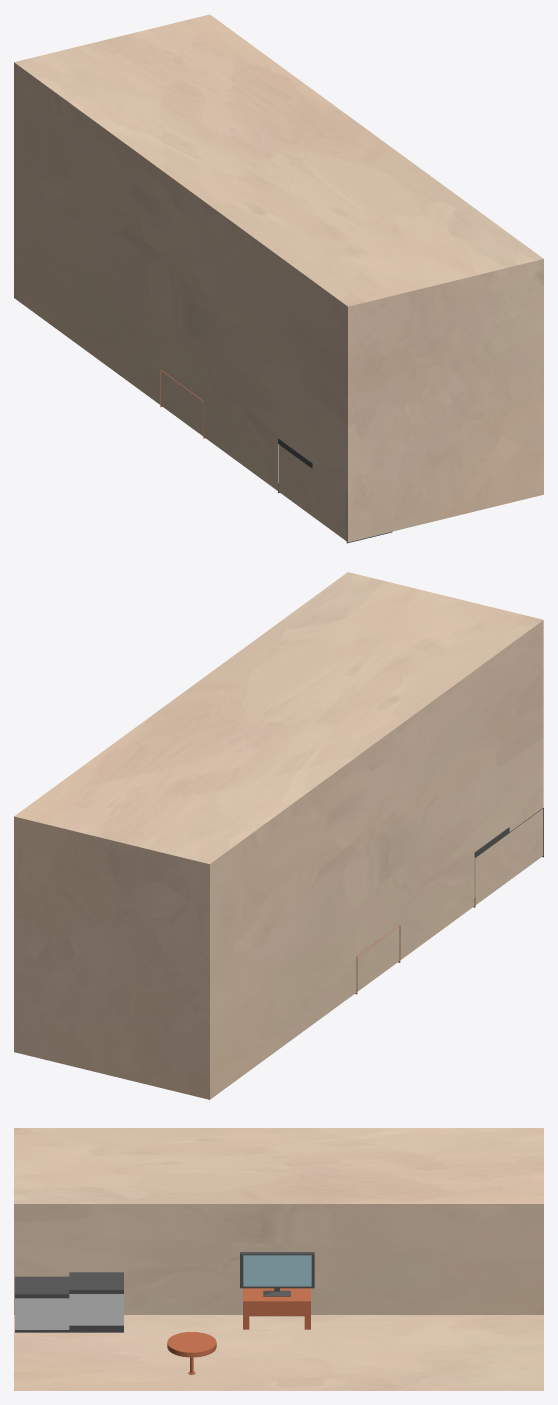
3 renders of one model, top to bottom at view 1: azimuth 30°, elevation 25°; view 2: azimuth 150°, elevation 25°; view 3: azimuth 270°, elevation 25°, orthographic. The views are drawn at different scales.
Parts seen in each view (by area): view 1: Cube; view 2: Cube; view 3: Cube, Cube.002, Cube.008, Cube.001, Cylinder.001.
Part boxes in pixels (left/top/right/bottom): Cube: left=14, top=14, right=543, bottom=542; Cube: left=14, top=572, right=543, bottom=1099; Cube: left=14, top=1128, right=543, bottom=1390; Cube.002: left=15, top=1272, right=123, bottom=1332; Cube.008: left=240, top=1252, right=314, bottom=1296; Cube.001: left=243, top=1288, right=310, bottom=1329; Cylinder.001: left=167, top=1332, right=216, bottom=1374.
Size of the model in its own units: 565 by 652 by 1662.
5 materials, 1 textured.
